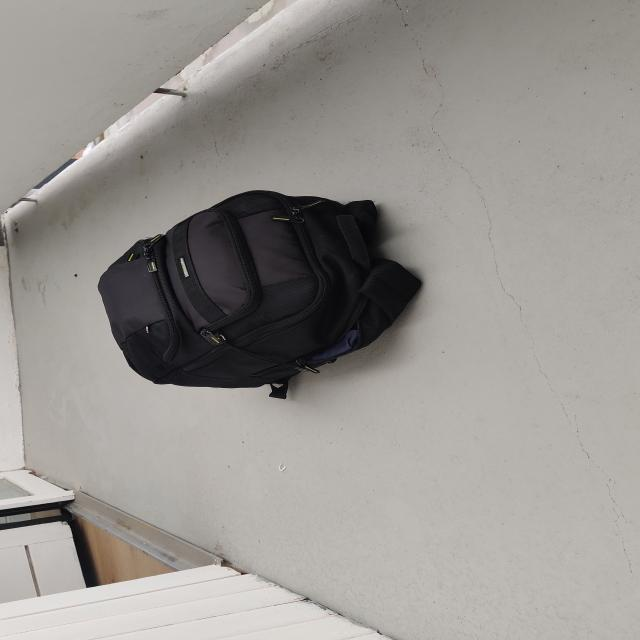backpack: (89, 184, 429, 396)
